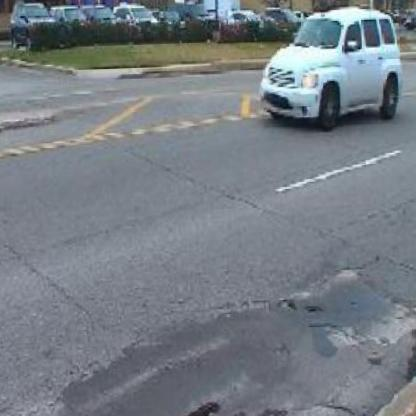pothole: (178, 394, 222, 416), (278, 290, 298, 315), (304, 297, 324, 315)
